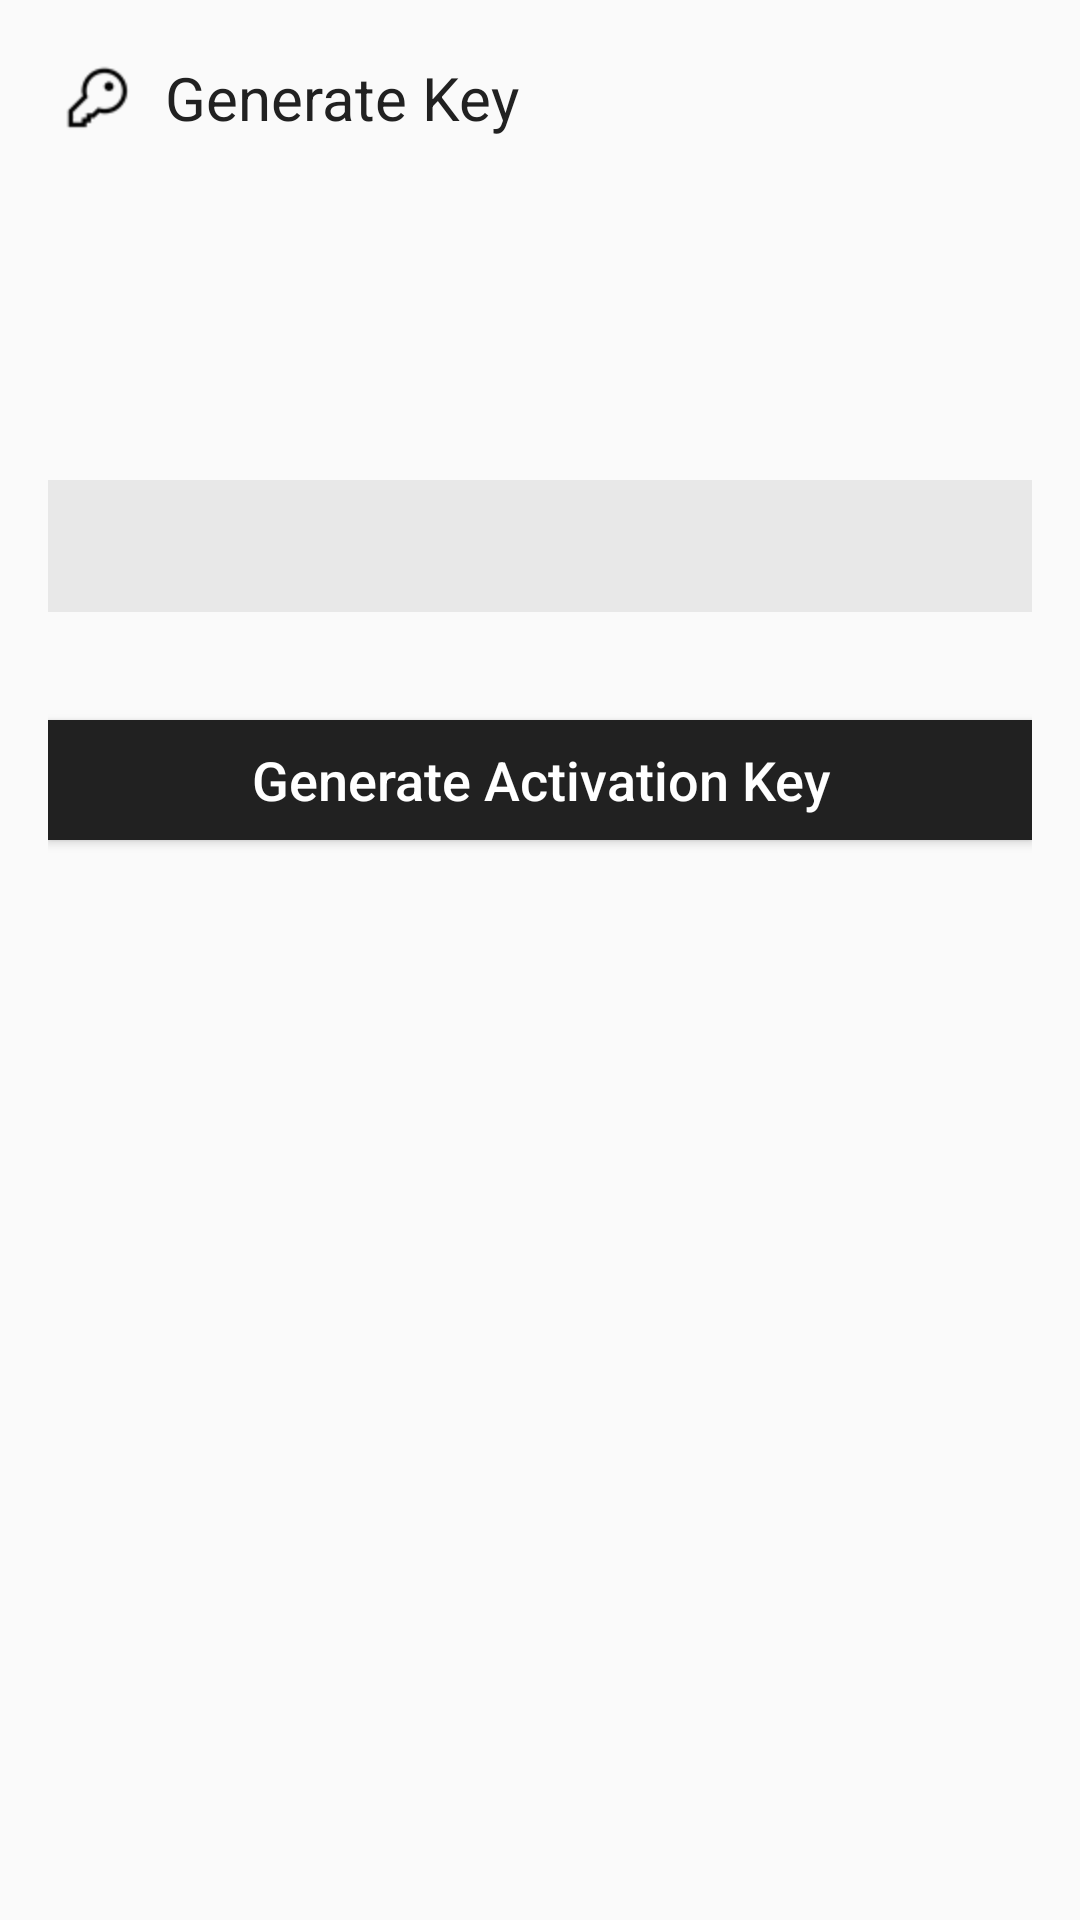

Point at icon controls on the screen. Image size 1080px×1920px, points as [x,y].
om key: [97,97]
